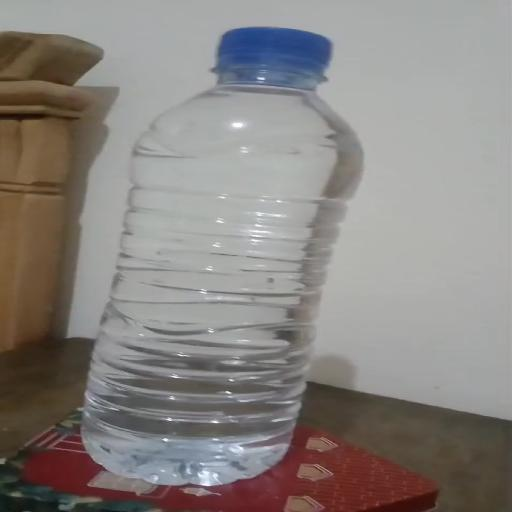bouteille non conformite: (105, 35, 367, 506)
